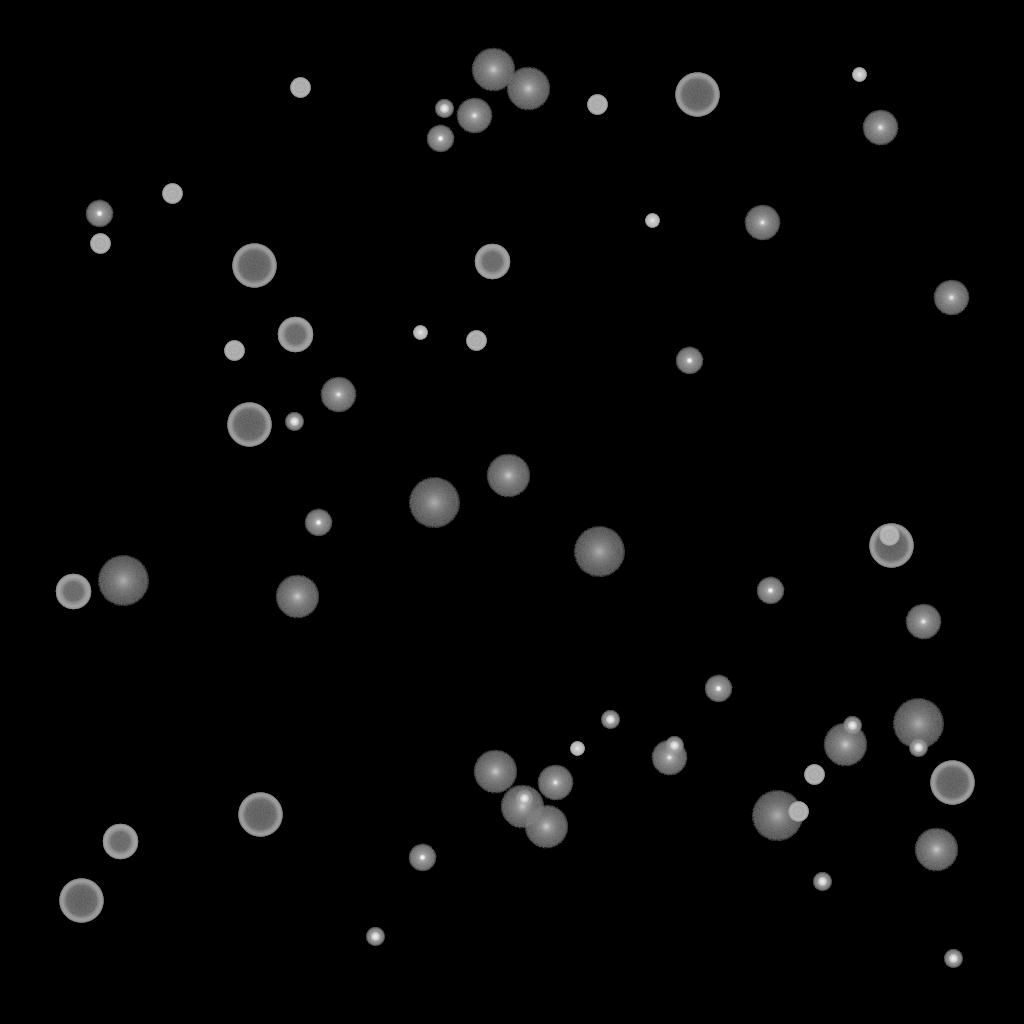depth:-10: (756, 577, 784, 605), (85, 200, 113, 228), (408, 844, 436, 872), (304, 509, 332, 537), (675, 347, 703, 375), (426, 125, 454, 153), (704, 675, 732, 703)
depth:-20: (366, 928, 384, 946), (515, 790, 533, 808), (843, 717, 861, 735), (285, 413, 303, 431), (944, 950, 962, 968), (435, 100, 453, 118), (601, 711, 619, 729), (665, 737, 683, 755), (909, 739, 927, 757), (813, 873, 831, 891)
depth:-30: (570, 742, 584, 756), (413, 326, 427, 340), (645, 214, 659, 228), (852, 68, 866, 82)
depth:-40: (162, 184, 182, 204), (804, 765, 824, 785), (879, 526, 899, 546), (466, 331, 486, 351), (90, 234, 110, 254), (788, 802, 808, 822), (224, 341, 244, 361), (290, 78, 310, 98), (587, 95, 607, 115)
depth:-60: (277, 317, 313, 353), (102, 824, 138, 860), (55, 574, 91, 610), (474, 244, 510, 280)
depth:-70: (930, 761, 974, 805), (232, 244, 276, 288), (59, 879, 103, 923), (238, 793, 282, 837), (675, 73, 719, 117), (227, 403, 271, 447), (869, 524, 913, 568)
depth:0: (320, 377, 356, 413), (933, 280, 969, 316), (651, 740, 687, 776), (744, 205, 780, 241), (905, 604, 941, 640), (456, 98, 492, 134), (862, 110, 898, 146), (537, 765, 573, 801)
depth:10: (823, 723, 867, 767), (471, 48, 515, 92), (275, 575, 319, 619), (473, 750, 517, 794), (486, 454, 530, 498), (506, 67, 550, 111), (524, 805, 568, 849), (914, 828, 958, 872), (500, 785, 544, 829)
depth:20: (97, 556, 149, 606), (573, 527, 625, 577), (408, 478, 460, 528), (751, 791, 803, 841), (892, 699, 944, 749)
